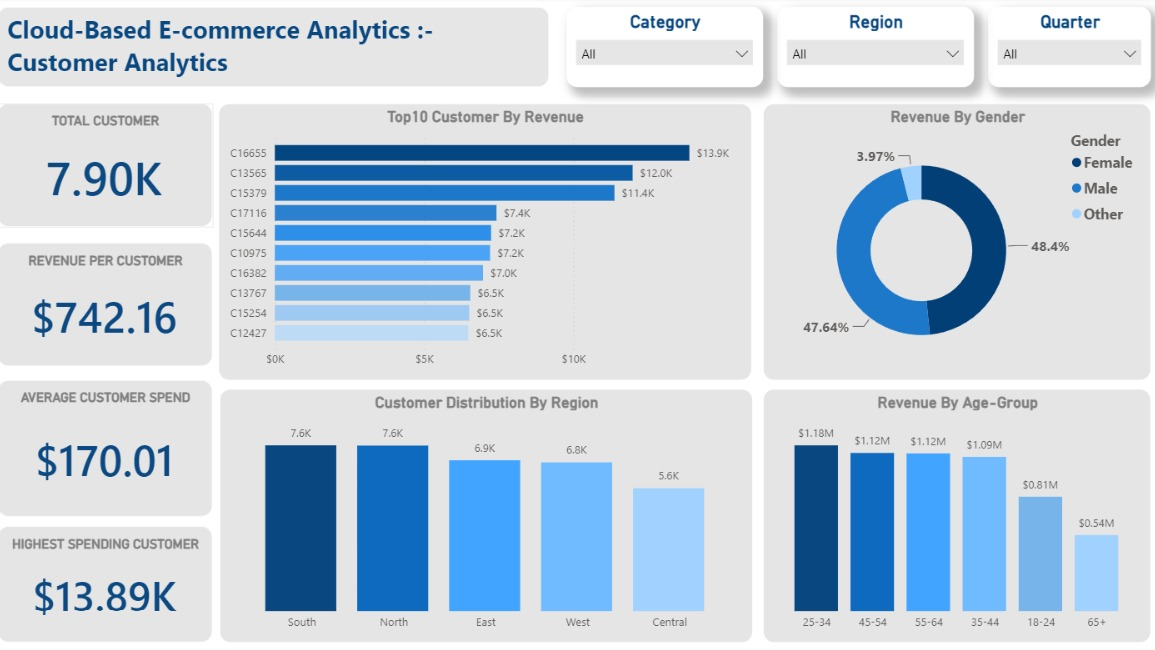

The dashboard page shown, as its layout file describes it:
{"tool":"powerbi","page":{"name":"Customer Analytics","canvas":[1280,720],"ordinal":1},"visuals":[{"type":"cardVisual","title":"TOTAL CUSTOMER","fields":{"Data":["orders.total_customer"]},"box":[6.6,116.8,234.9,135.2],"z":0},{"type":"textbox","box":[6.6,10.5,603.8,87.9],"z":1000},{"type":"cardVisual","title":"HIGHEST SPENDING CUSTOMER","fields":{"Data":["orders.highest_spending_customer"]},"box":[6.6,580.1,234.9,128.6],"z":2000},{"type":"cardVisual","title":"REVENUE PER CUSTOMER","fields":{"Data":["orders.revenue_per_customer"]},"box":[6.6,269.1,234.9,135.2],"z":3000},{"type":"cardVisual","title":"AVERAGE CUSTOMER SPEND","fields":{"Data":["orders.avg_customer_spend"]},"box":[6.6,420,234.9,149.6],"z":4000},{"type":"slicer","title":"Quarter","fields":{"Values":["orders.order_date.Variation.Date Hierarchy.Quarter"]},"box":[1090.7,10.5,178.5,87.9],"z":5000},{"type":"slicer","title":"Region","fields":{"Values":["orders.region"]},"box":[859.7,10.5,215.3,87.9],"z":6000},{"type":"slicer","title":"Category","fields":{"Values":["products.category"]},"box":[628.7,10.5,215.3,87.9],"z":7000},{"type":"donutChart","title":"Revenue By Gender","fields":{"Y":["orders.total_revenue"],"Category":["customers.gender"]},"box":[844,116.8,425.3,303.2],"z":8000},{"type":"columnChart","title":"Customer Distribution By Region","fields":{"Y":["CountNonNull(orders.customer_id)"],"Category":["orders.region"]},"box":[249.4,429.2,584.1,279.6],"z":9000},{"type":"barChart","title":"Top10 Customer By Revenue","fields":{"Y":["orders.total_revenue"],"Category":["orders.customer_id"]},"box":[248.1,116.8,584.1,303.2],"z":10000},{"type":"columnChart","title":"Revenue By Age-Group","fields":{"Y":["orders.total_revenue"],"Category":["customers.age_group"]},"box":[844,429.2,425.3,279.6],"z":11000}]}

Visuals, with their boxes in screenshot pixels (x1, y1, x2, y2), scaled from the page's 1280x720 canvas onto the 1155x650 screenshot:
"TOTAL CUSTOMER" cardVisual: pyautogui.locateOnScreen(6, 105, 218, 228)
textbox: pyautogui.locateOnScreen(6, 9, 551, 89)
"HIGHEST SPENDING CUSTOMER" cardVisual: pyautogui.locateOnScreen(6, 524, 218, 640)
"REVENUE PER CUSTOMER" cardVisual: pyautogui.locateOnScreen(6, 243, 218, 365)
"AVERAGE CUSTOMER SPEND" cardVisual: pyautogui.locateOnScreen(6, 379, 218, 514)
"Quarter" slicer: pyautogui.locateOnScreen(984, 9, 1145, 89)
"Region" slicer: pyautogui.locateOnScreen(776, 9, 970, 89)
"Category" slicer: pyautogui.locateOnScreen(567, 9, 762, 89)
"Revenue By Gender" donutChart: pyautogui.locateOnScreen(762, 105, 1145, 379)
"Customer Distribution By Region" columnChart: pyautogui.locateOnScreen(225, 387, 752, 640)
"Top10 Customer By Revenue" barChart: pyautogui.locateOnScreen(224, 105, 751, 379)
"Revenue By Age-Group" columnChart: pyautogui.locateOnScreen(762, 387, 1145, 640)
